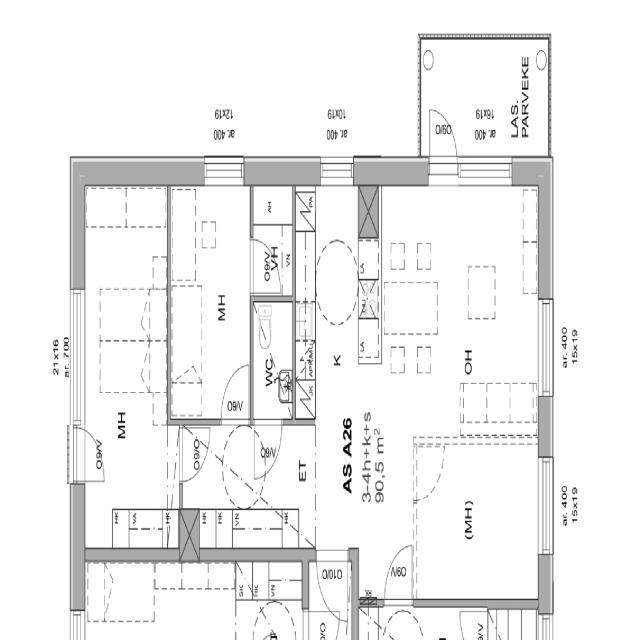door: (312, 552, 349, 628), (380, 540, 417, 609), (426, 103, 458, 182), (175, 420, 211, 487), (218, 358, 253, 423), (412, 437, 445, 505), (70, 424, 106, 483), (254, 418, 284, 479), (358, 179, 380, 239), (271, 599, 298, 640), (257, 597, 271, 632)
window: (66, 281, 90, 439), (536, 450, 557, 570), (536, 297, 557, 405), (456, 162, 515, 190), (204, 159, 245, 189), (319, 162, 354, 186)
zone: (382, 179, 542, 438), (80, 190, 175, 562), (412, 440, 544, 608), (170, 184, 252, 421), (179, 416, 304, 556), (253, 297, 292, 423), (250, 204, 294, 295), (253, 556, 306, 600)
